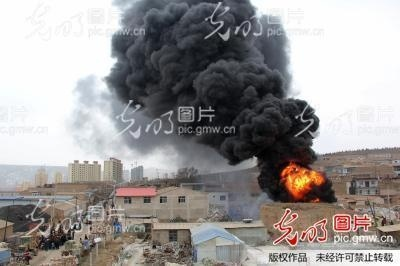fire: (281, 163, 325, 201)
